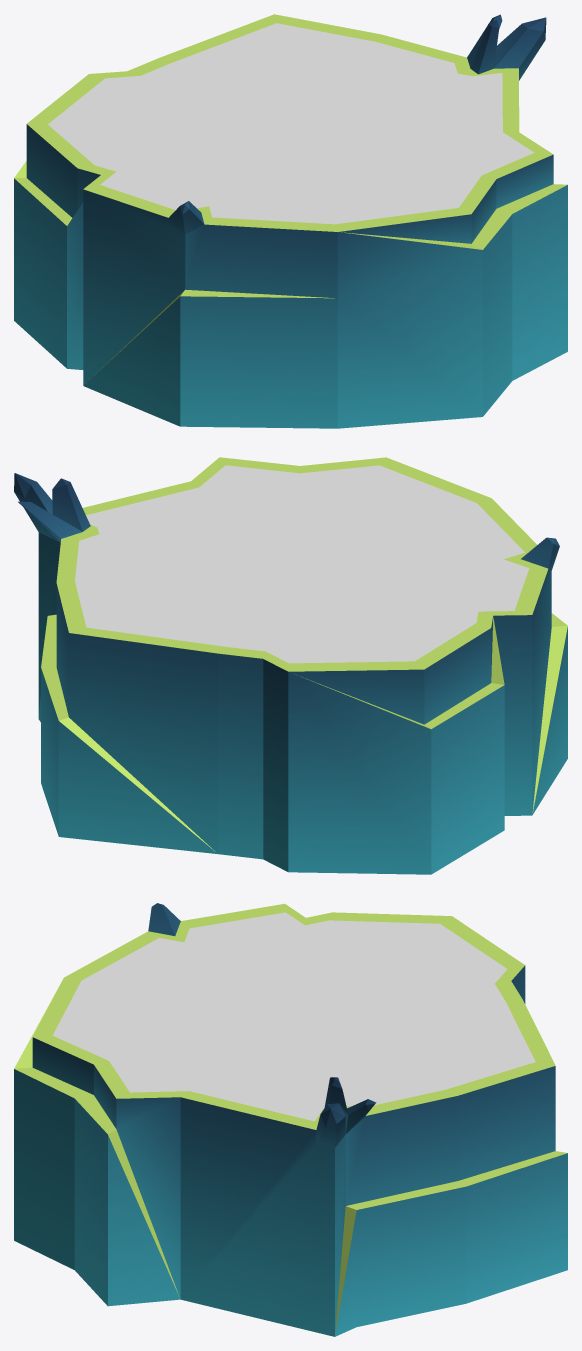
The model's file is MOD_Platform_MiddenV2.fbx.
3 views of the same model, one above another, from view 1: azimuth 30°, elevation 25°; view 2: azimuth 150°, elevation 25°; view 3: azimuth 270°, elevation 25° (orthographic). The views are drawn at different scales.
Visible parts, largest first — view 1: MOD_Platform_Laag; view 2: MOD_Platform_Laag; view 3: MOD_Platform_Laag.
Part boxes in pixels (x1,y1,x2,y2): MOD_Platform_Laag: [14, 14, 567, 428]; MOD_Platform_Laag: [14, 457, 567, 874]; MOD_Platform_Laag: [14, 903, 567, 1336].
Bounding box in the file's own units: 7.34 × 3.49 × 7.05.
